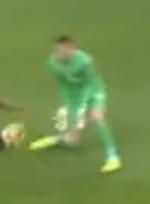goalkeeper: (38, 14, 132, 182)
